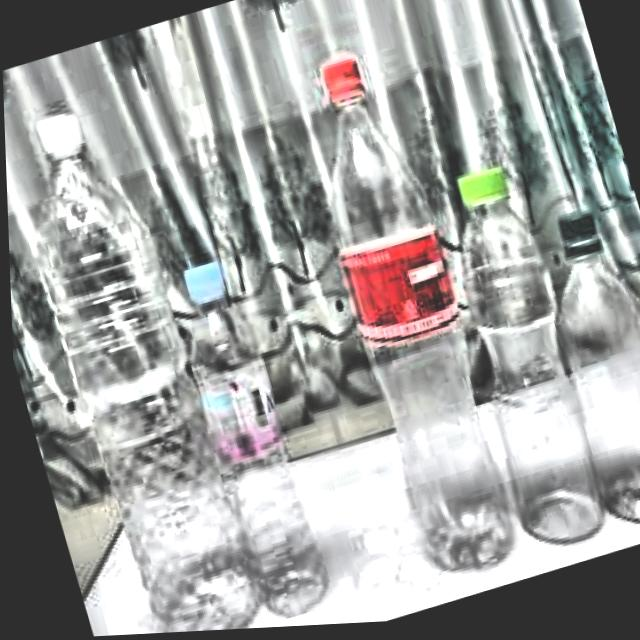Bottles: (258, 36, 539, 604), (3, 77, 272, 640), (393, 116, 615, 576), (132, 202, 355, 635), (495, 162, 640, 564)
